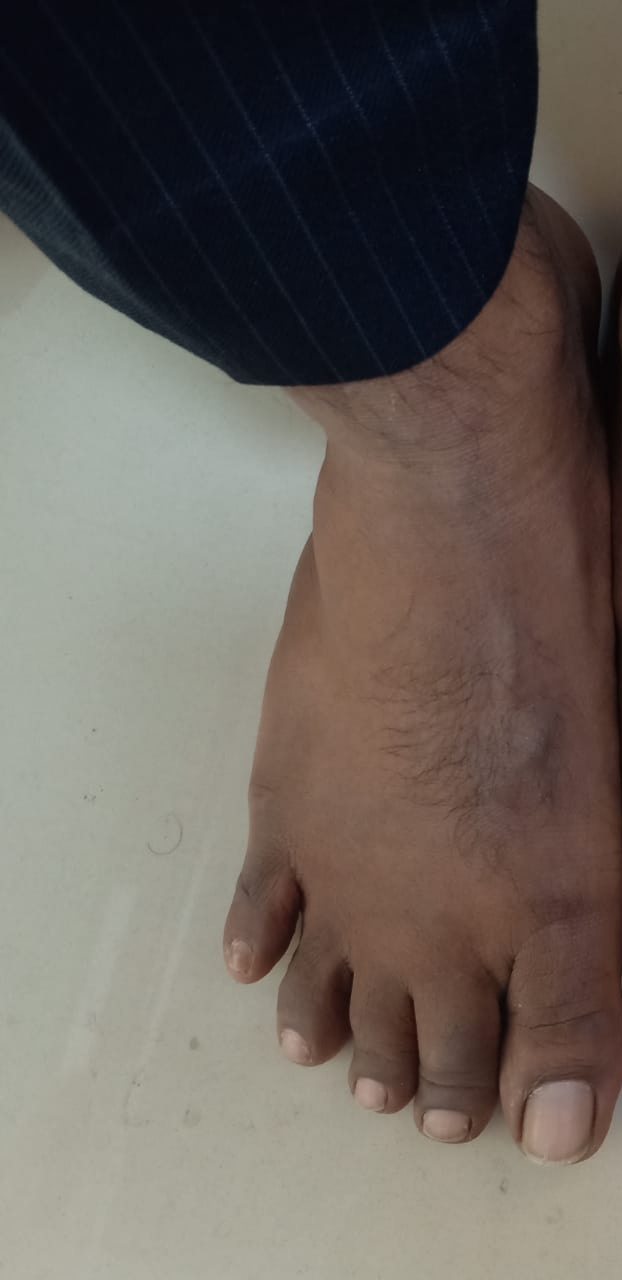feet: (102, 250, 608, 1174)
